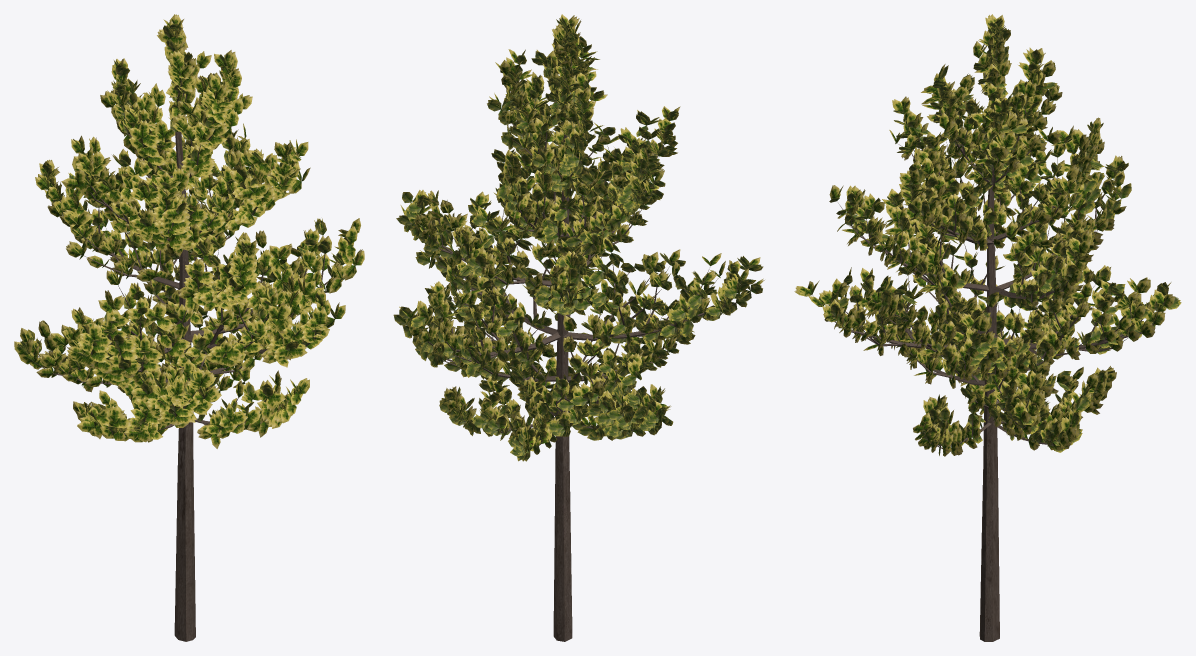
File: ficusTree.obj
3 views of the same model, side by side, from view 1: azimuth 30°, elevation 25°; view 2: azimuth 150°, elevation 25°; view 3: azimuth 270°, elevation 25° (orthographic).
Visible parts, largest first — view 1: leaves_Plane, tree; view 2: leaves_Plane, tree; view 3: leaves_Plane, tree.
Part boxes in pixels (left/top/right/bottom): leaves_Plane: left=14, top=14, right=364, bottom=448; tree: left=27, top=68, right=345, bottom=641; leaves_Plane: left=393, top=14, right=764, bottom=461; tree: left=420, top=55, right=750, bottom=641; leaves_Plane: left=794, top=14, right=1181, bottom=456; tree: left=812, top=59, right=1163, bottom=641.
Size of the model in its own units: 275 by 500 by 284.
Materials: 2 (2 with a texture image).
